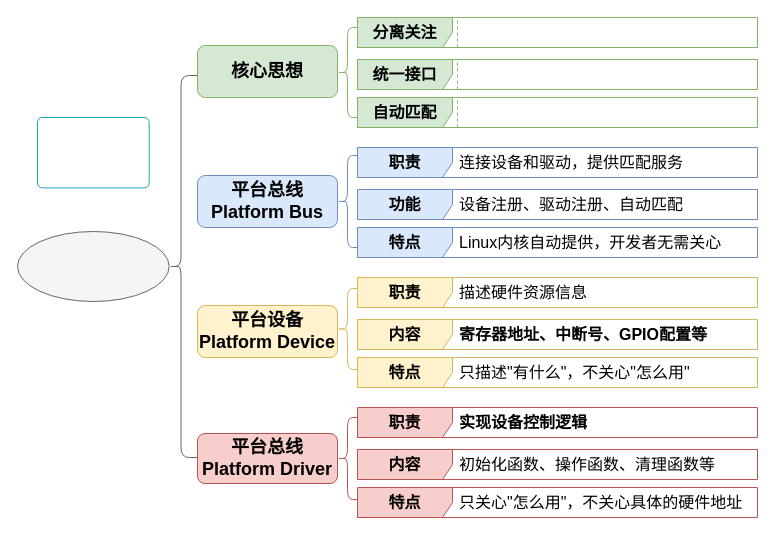
Some shapes in this 775 by 535 pixel diagram are drawn without their labels. Each missing label, with the centre of its shape:
"平台模型简介" goes at [92,266].
"总线负责设备与驱动的智能配对" goes at [607,112].
"硬件信息和驱动逻辑完全分离" goes at [607,32].
"通过总线提供标准化的设备管理接口" goes at [607,74].
"🌻Make By Dakkk" goes at [92,152].
